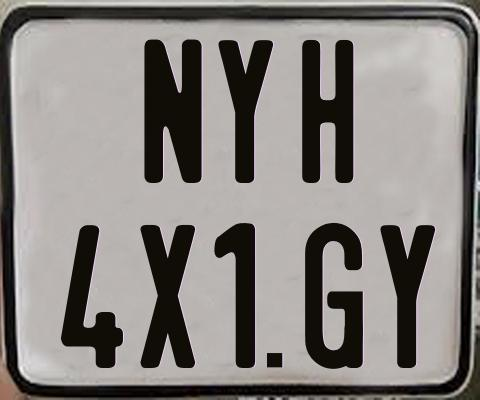1: (214, 223, 255, 371)
4: (59, 224, 121, 373)
G: (304, 223, 362, 370)
H: (299, 40, 353, 184)
N: (143, 36, 201, 181)
X: (138, 223, 197, 369)
Y: (216, 38, 275, 186), (377, 225, 434, 373)
